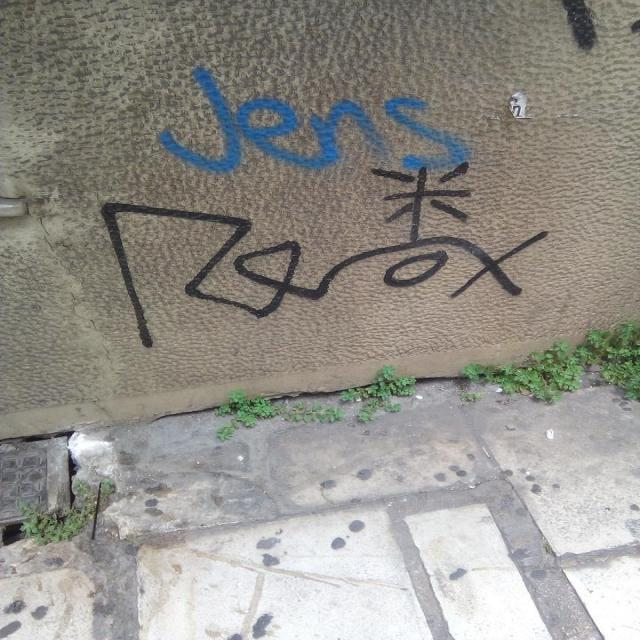nonspitting: (101, 164, 547, 348), (156, 66, 472, 172)
